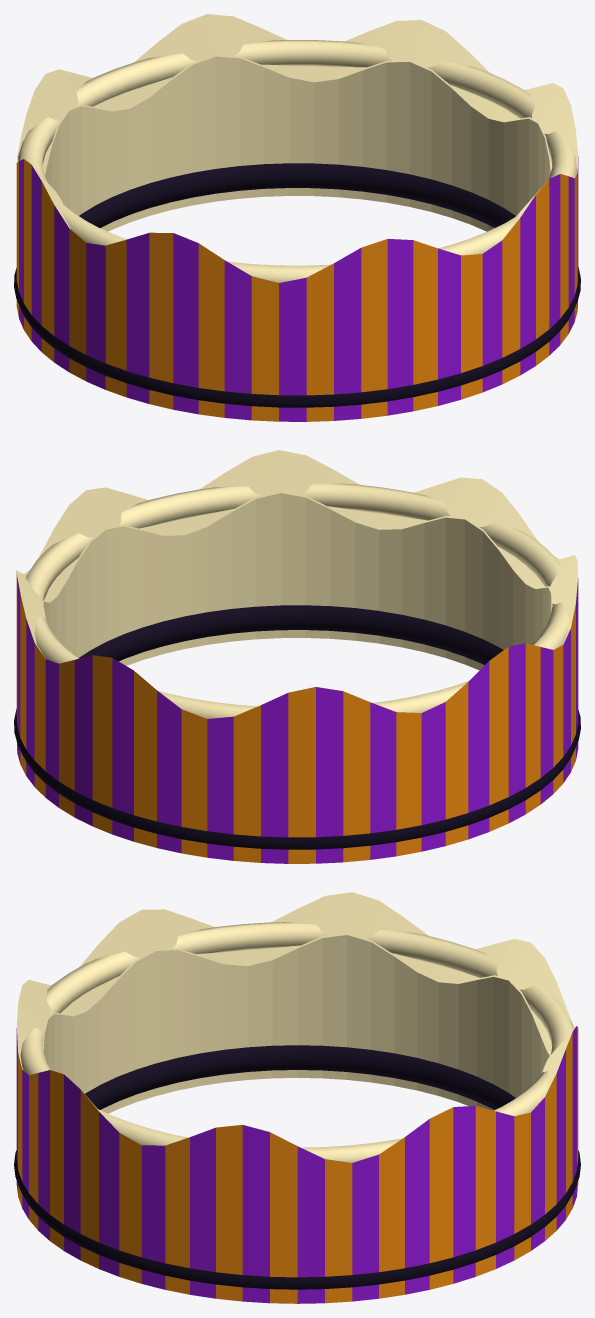
The model's file is false_king_shockwave_wall.obj.
3 views of the same model, one above another, from view 1: azimuth 30°, elevation 25°; view 2: azimuth 150°, elevation 25°; view 3: azimuth 270°, elevation 25° (orthographic).
Parts seen in each view (by area): view 1: false_king_shockwave_wall; view 2: false_king_shockwave_wall; view 3: false_king_shockwave_wall.
Part boxes in pixels (x1=…): false_king_shockwave_wall: x1=14, y1=14, x2=580, y2=421; false_king_shockwave_wall: x1=14, y1=450, x2=580, y2=863; false_king_shockwave_wall: x1=14, y1=892, x2=580, y2=1303.
Bounding box in the file's own units: 2.02 × 0.695 × 2.02.
